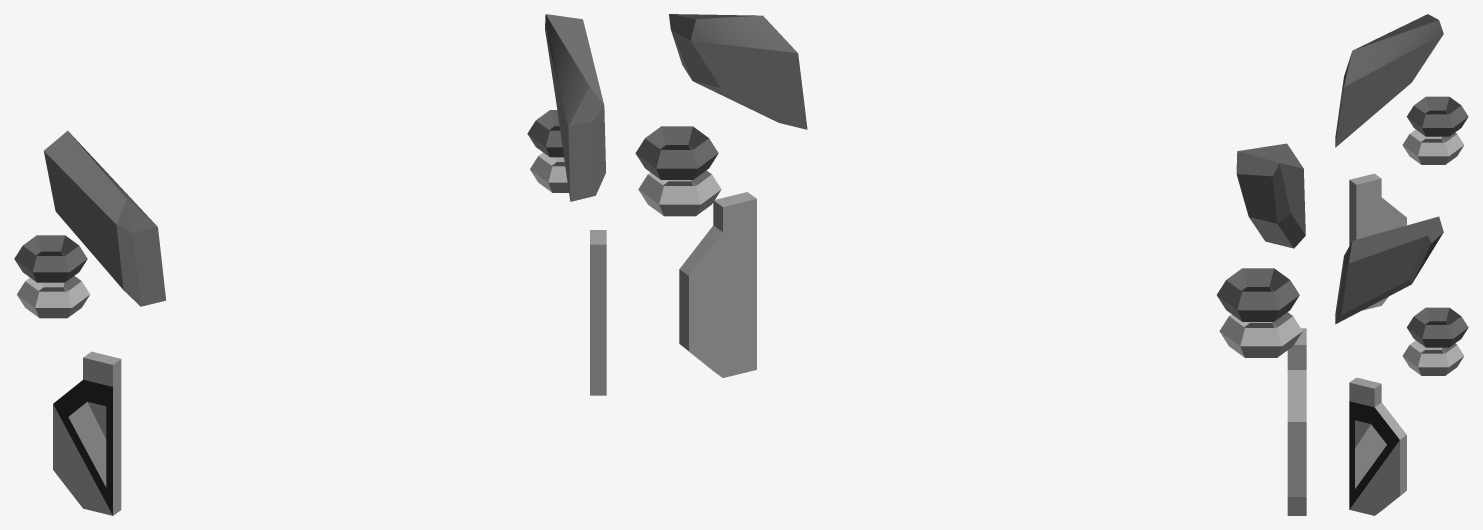
File: SM_Chr_Attach_Earrings_Male_02.fbx
The picture shows the model from 3 angles, left to right: view 1: azimuth 30°, elevation 25°; view 2: azimuth 150°, elevation 25°; view 3: azimuth 270°, elevation 25°; orthographic projection. The views are drawn at different scales.
Visible parts, largest first — view 1: SM_Chr_Attach_Earrings_Male_02; view 2: SM_Chr_Attach_Earrings_Male_02; view 3: SM_Chr_Attach_Earrings_Male_02.
Part boxes in pixels (bbox=[...]): SM_Chr_Attach_Earrings_Male_02: bbox=[14, 14, 606, 515]; SM_Chr_Attach_Earrings_Male_02: bbox=[635, 14, 1306, 515]; SM_Chr_Attach_Earrings_Male_02: bbox=[1335, 14, 1468, 515].
Bounding box in the file's own units: 26.79 × 15.52 × 6.46.
